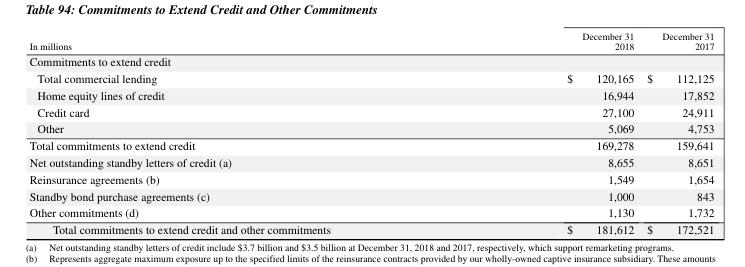table: (28, 28, 713, 236)
table column: (28, 28, 448, 236), (448, 28, 639, 236), (639, 28, 713, 236)
table column header: (28, 28, 713, 52)
table projected row header: (28, 52, 713, 69)
table row: (28, 28, 713, 52), (28, 52, 713, 69), (28, 85, 713, 102), (28, 102, 713, 119), (28, 119, 713, 136), (28, 136, 713, 153), (28, 169, 713, 186), (28, 186, 713, 203), (28, 203, 713, 220), (28, 69, 713, 85), (28, 153, 713, 169), (28, 220, 713, 236)
